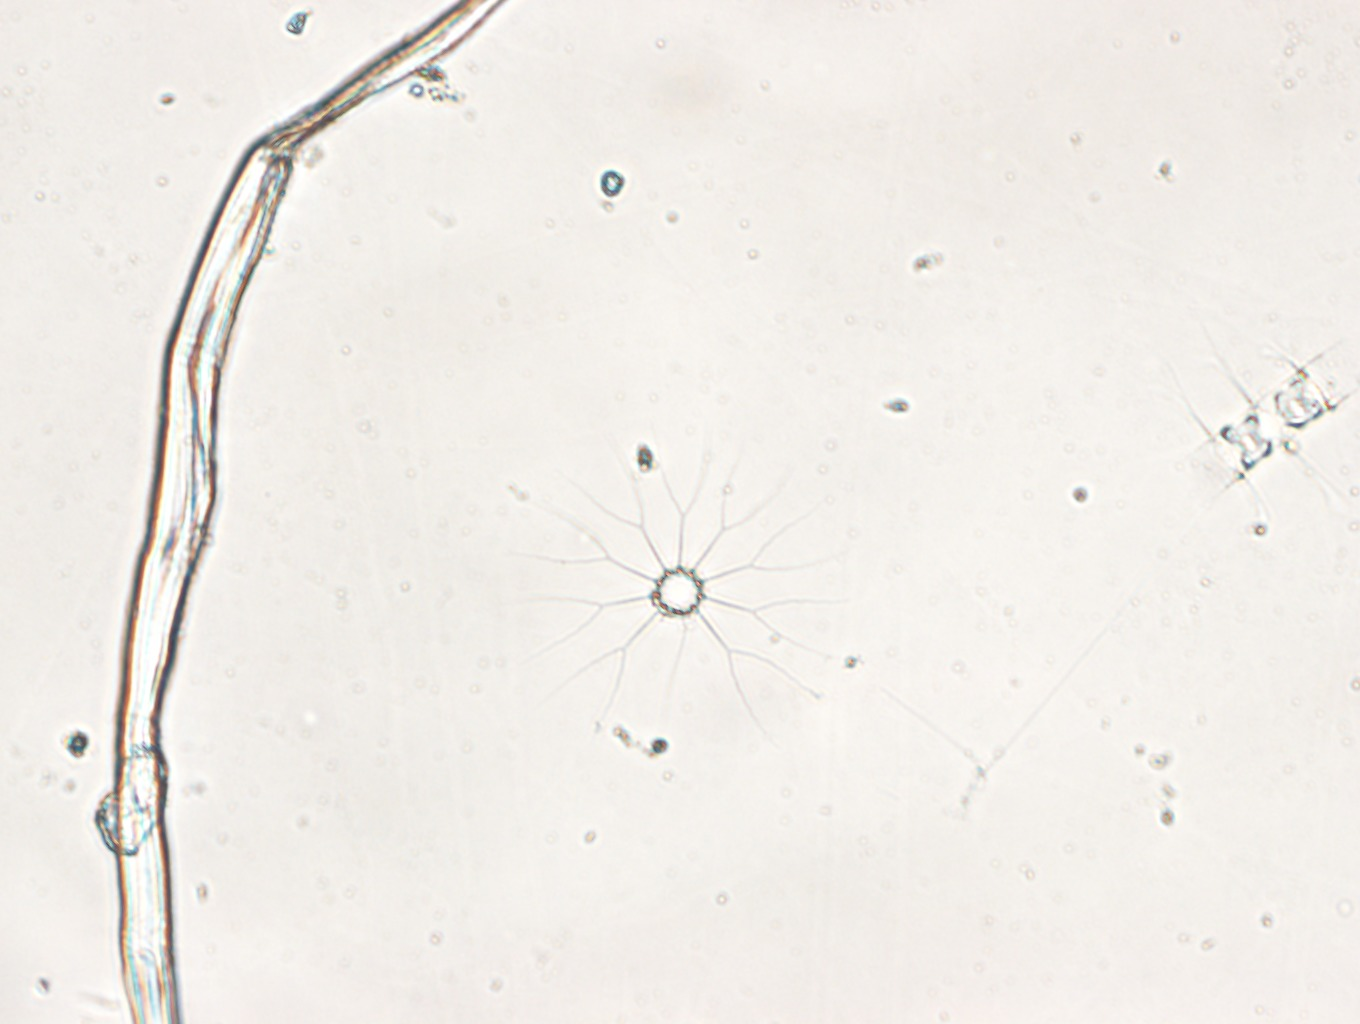bacteriastrum: (512, 430, 839, 739)
chaetoceros: (1164, 305, 1360, 527)
